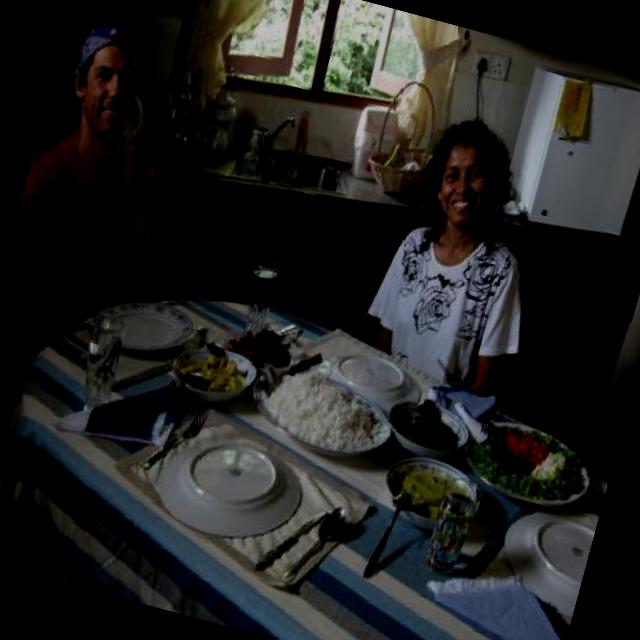Person: (0, 0, 224, 564), (356, 111, 570, 401)
